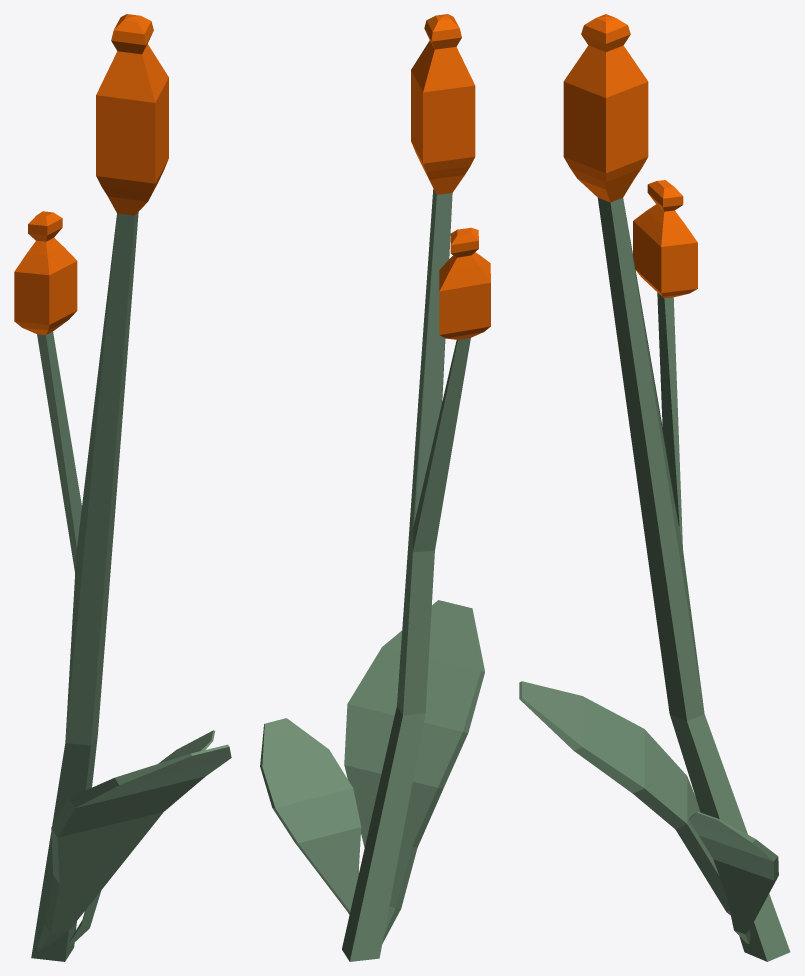
The model's file is plante_5_etape_3.fbx.
The picture shows the model from 3 angles, left to right: view 1: azimuth 30°, elevation 25°; view 2: azimuth 150°, elevation 25°; view 3: azimuth 270°, elevation 25°; orthographic projection. The views are drawn at different scales.
Parts seen in each view (by area): view 1: orange_plante_orange_plante; view 2: orange_plante_orange_plante; view 3: orange_plante_orange_plante.
Boxes of the visible parts, x1,y1,x2,y2 form: orange_plante_orange_plante: [14, 14, 231, 961]; orange_plante_orange_plante: [260, 14, 490, 961]; orange_plante_orange_plante: [519, 14, 790, 961].
Size of the model in its own units: 0.927 by 3.87 by 1.02.
